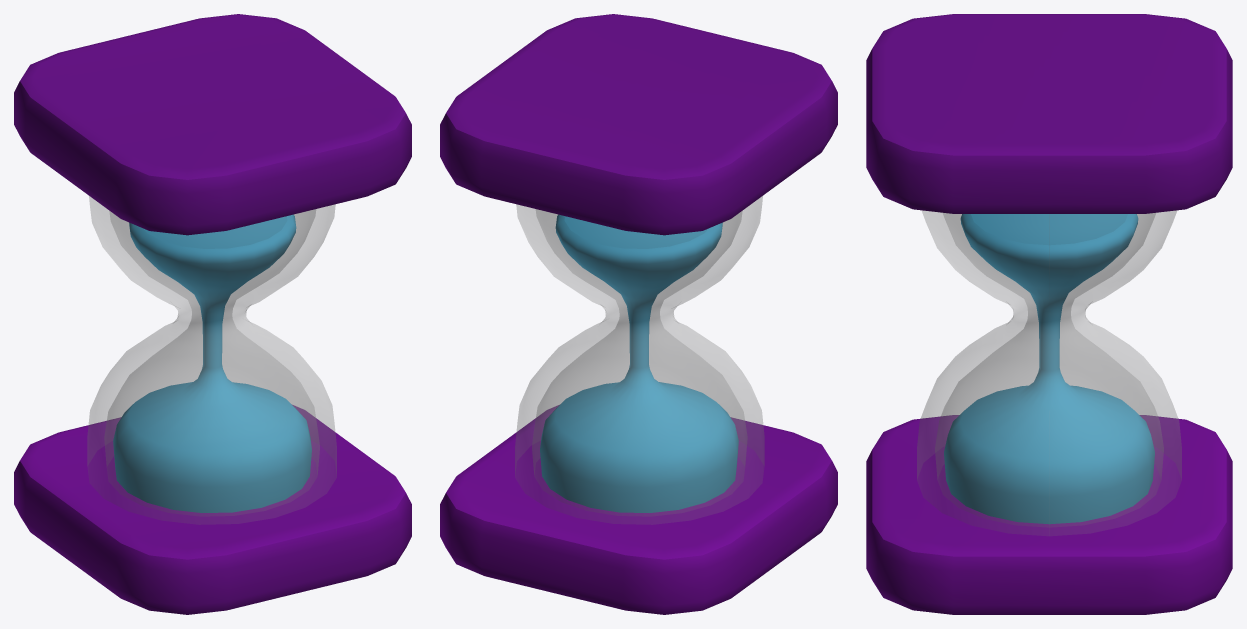
File: hourglass_v1.fbx
3 views of the same model, side by side, from view 1: azimuth 30°, elevation 25°; view 2: azimuth 150°, elevation 25°; view 3: azimuth 270°, elevation 25° (orthographic). The views are drawn at different scales.
Visible parts, largest first — view 1: polySurface2, polySurface4, polySurface1, polySurface5, polySurface3; view 2: polySurface2, polySurface4, polySurface1, polySurface5, polySurface3; view 3: polySurface2, polySurface4, polySurface5, polySurface1, polySurface3.
Part boxes in pixels (left/top/right/bottom): polySurface2: left=14, top=14, right=411, bottom=235; polySurface4: left=87, top=196, right=336, bottom=524; polySurface1: left=14, top=405, right=411, bottom=614; polySurface5: left=104, top=209, right=319, bottom=515; polySurface3: left=113, top=214, right=311, bottom=512; polySurface2: left=440, top=14, right=837, bottom=235; polySurface4: left=515, top=196, right=764, bottom=524; polySurface1: left=440, top=405, right=837, bottom=614; polySurface5: left=532, top=209, right=747, bottom=515; polySurface3: left=540, top=214, right=738, bottom=512; polySurface2: left=866, top=14, right=1232, bottom=213; polySurface4: left=917, top=210, right=1181, bottom=535; polySurface5: left=935, top=213, right=1163, bottom=526; polySurface1: left=866, top=415, right=1232, bottom=614; polySurface3: left=944, top=214, right=1154, bottom=524.
Size of the model in its own units: 51.31 by 76.6 by 54.16.
Materials: 2 (1 with a texture image).
